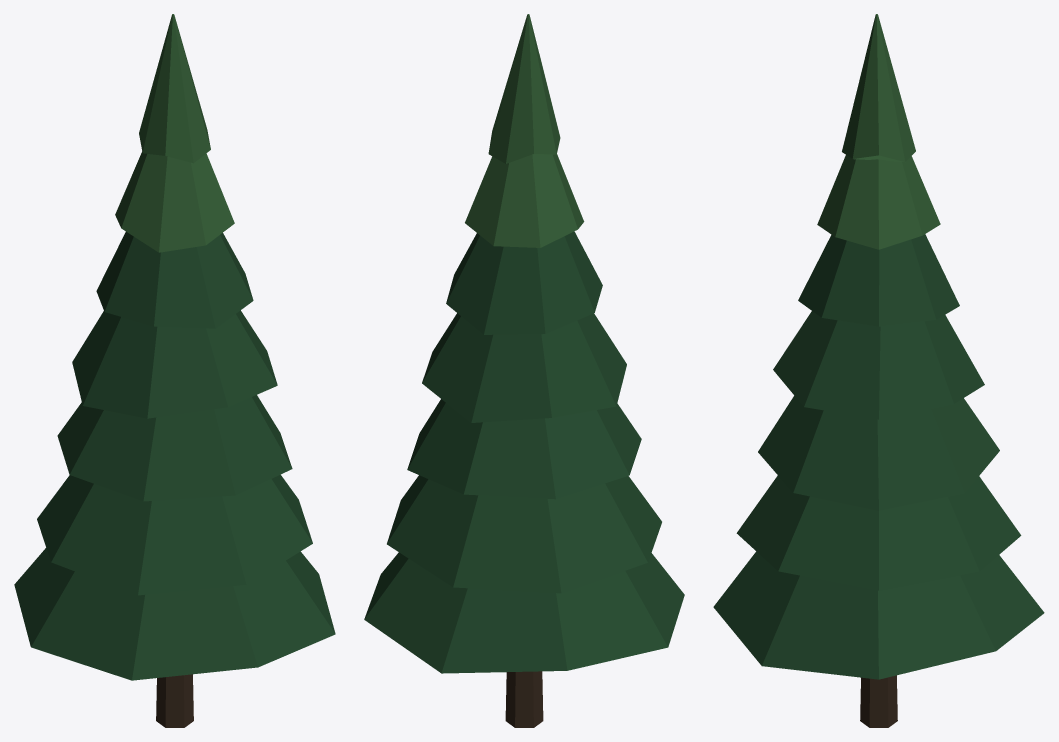
Rendered from UM_Fichte_Gross.fbx.
The picture shows the model from 3 angles, left to right: view 1: azimuth 30°, elevation 25°; view 2: azimuth 150°, elevation 25°; view 3: azimuth 270°, elevation 25°; orthographic projection.
Visible parts, largest first — view 1: UM_Fichte_Gross; view 2: UM_Fichte_Gross; view 3: UM_Fichte_Gross.
Part boxes in pixels (<box>): UM_Fichte_Gross: <box>14,14,335,727</box>; UM_Fichte_Gross: <box>364,14,684,727</box>; UM_Fichte_Gross: <box>713,14,1044,727</box>.
Bounding box in the file's own units: 5.71 × 13.41 × 5.71.
